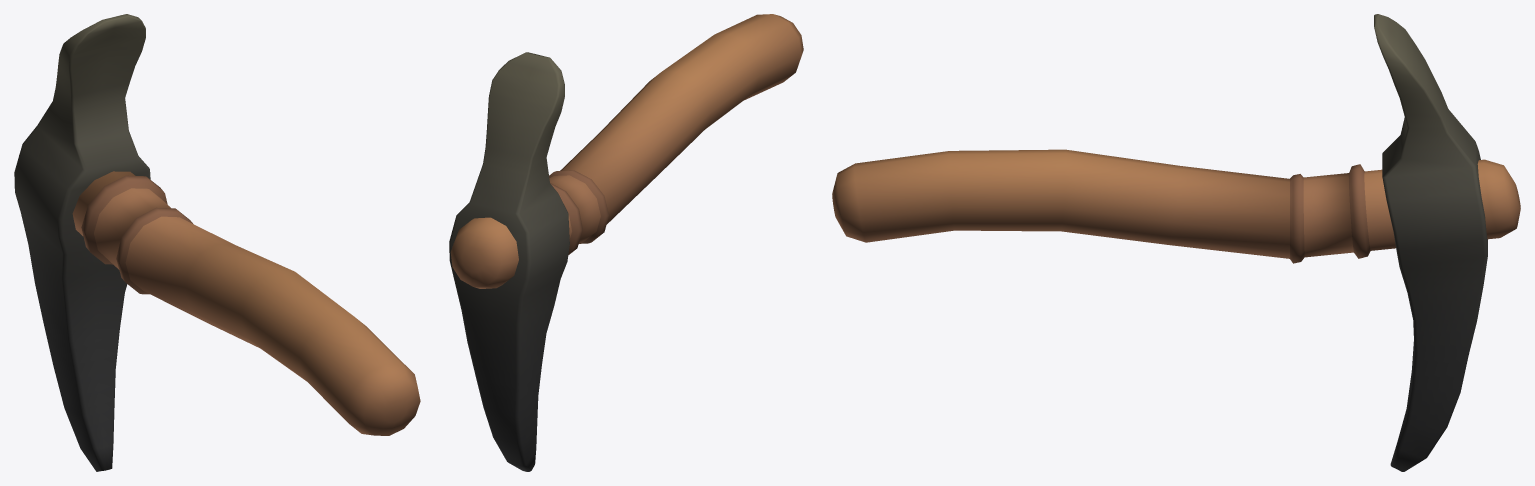
The model's file is PickAxe.fbx.
3 renders of one model, left to right at view 1: azimuth 30°, elevation 25°; view 2: azimuth 150°, elevation 25°; view 3: azimuth 270°, elevation 25°, orthographic. The views are drawn at different scales.
Parts seen in each view (by area): view 1: PickAxe; view 2: PickAxe; view 3: PickAxe.
Boxes of the visible parts, <box> form: PickAxe: <box>14,14,420,471</box>; PickAxe: <box>449,14,803,471</box>; PickAxe: <box>832,14,1520,471</box>.
Size of the model in its own units: 7.1 by 33.64 by 46.68.
